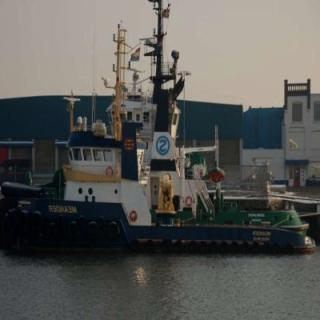Tug Boat: (0, 30, 320, 253)
